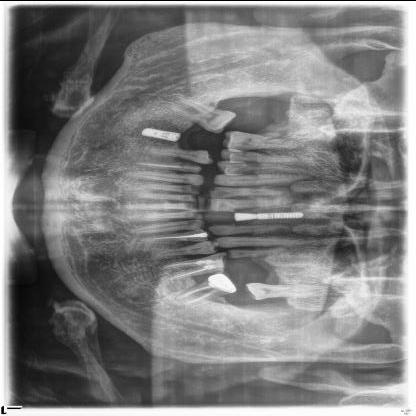ITI: (142, 127, 184, 141), (254, 211, 305, 219)
